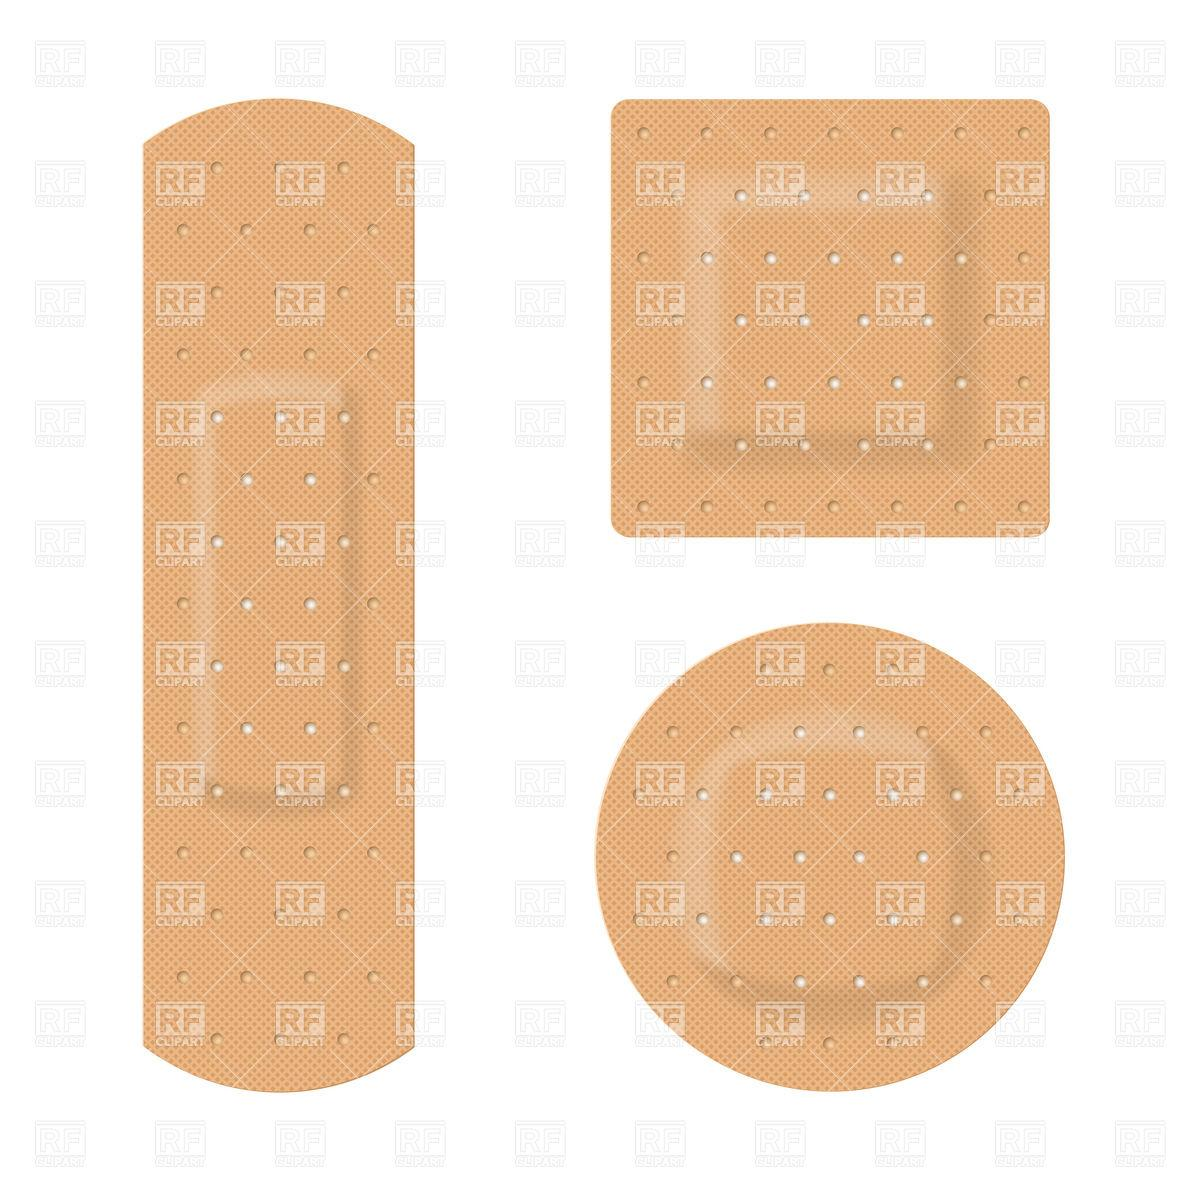bandage: (141, 96, 418, 1092), (600, 623, 1065, 1088), (615, 98, 1043, 541)
